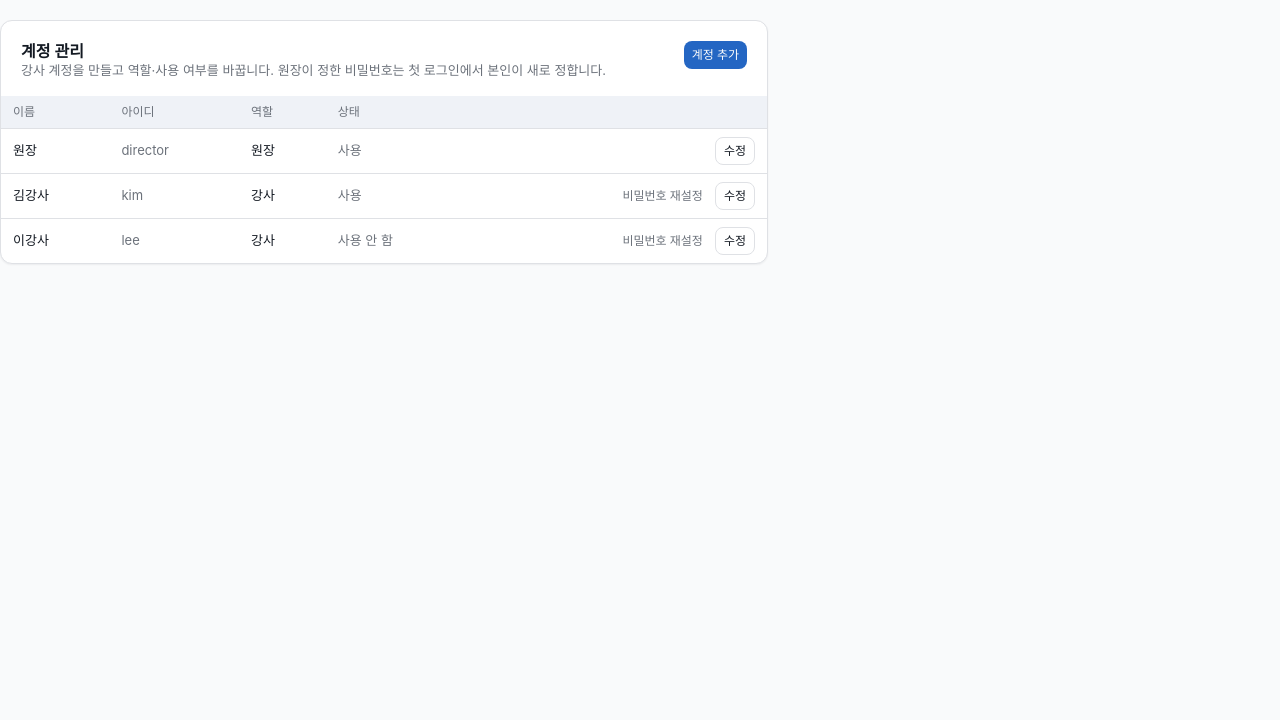
임시 비밀번호로 재설정한다
Expected: the text "김강사" is shown, top-left (1, 173), bottom-right (109, 218)
Step 1. Click the button with aria-label "김강사 비밀번호 재설정" → click(663, 196), box top-left (614, 182), bottom-right (711, 210)
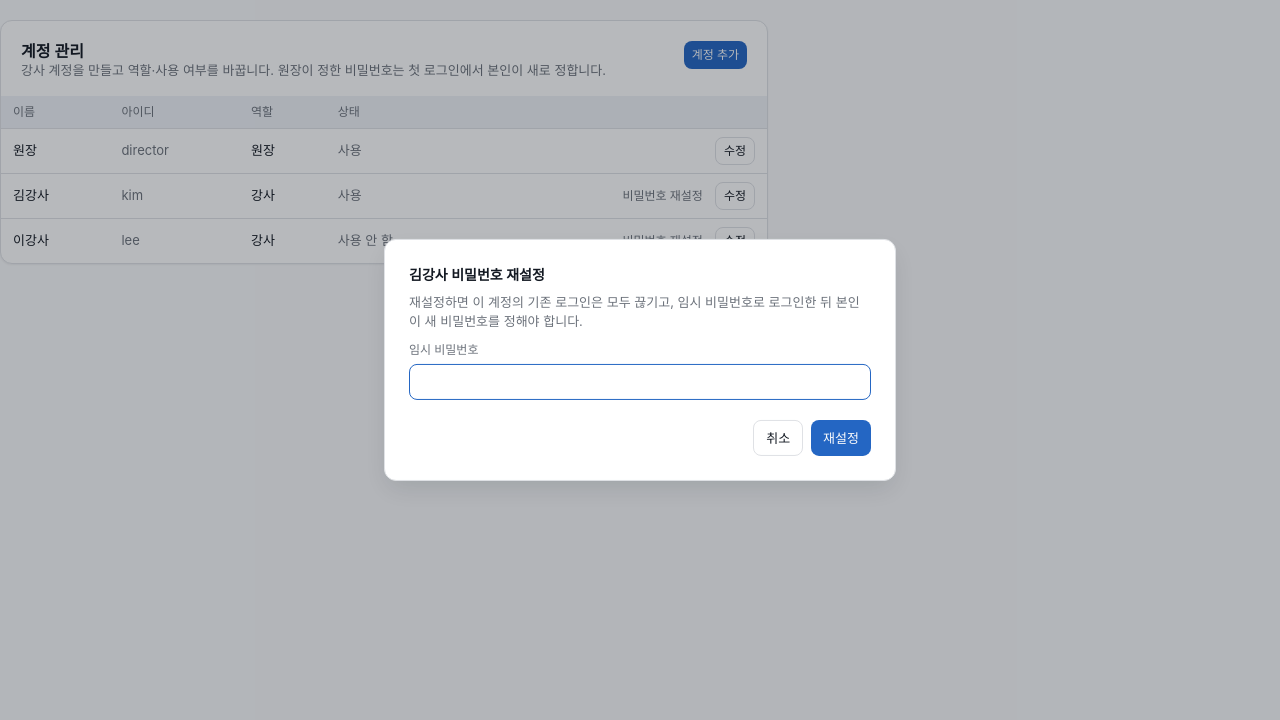
Expected: the dialog shows "기존 로그인은 모두 끊기고", top-left (409, 294), bottom-right (860, 328)
Step 2. Type "temporary-pw" into the password field labelled "임시 비밀번호" → (640, 382), box top-left (409, 364), bottom-right (871, 400)
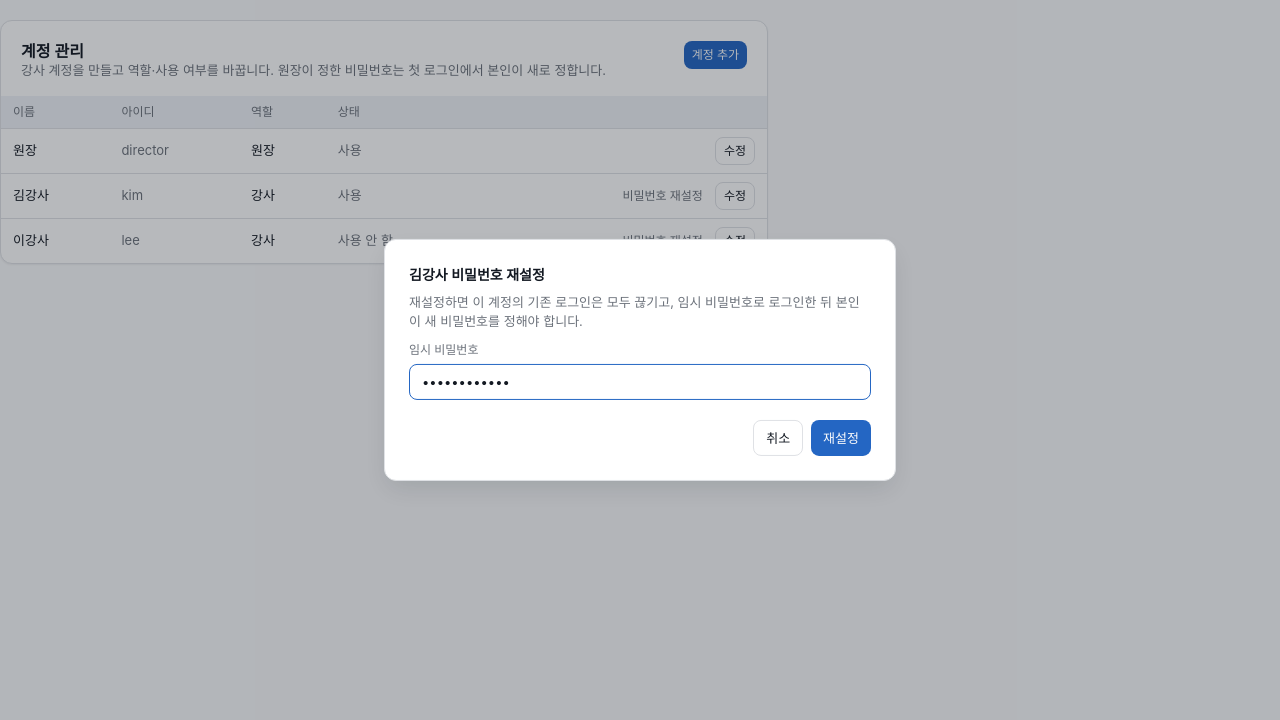
Step 3. Click the button "재설정" → click(841, 438), box top-left (811, 420), bottom-right (871, 456)
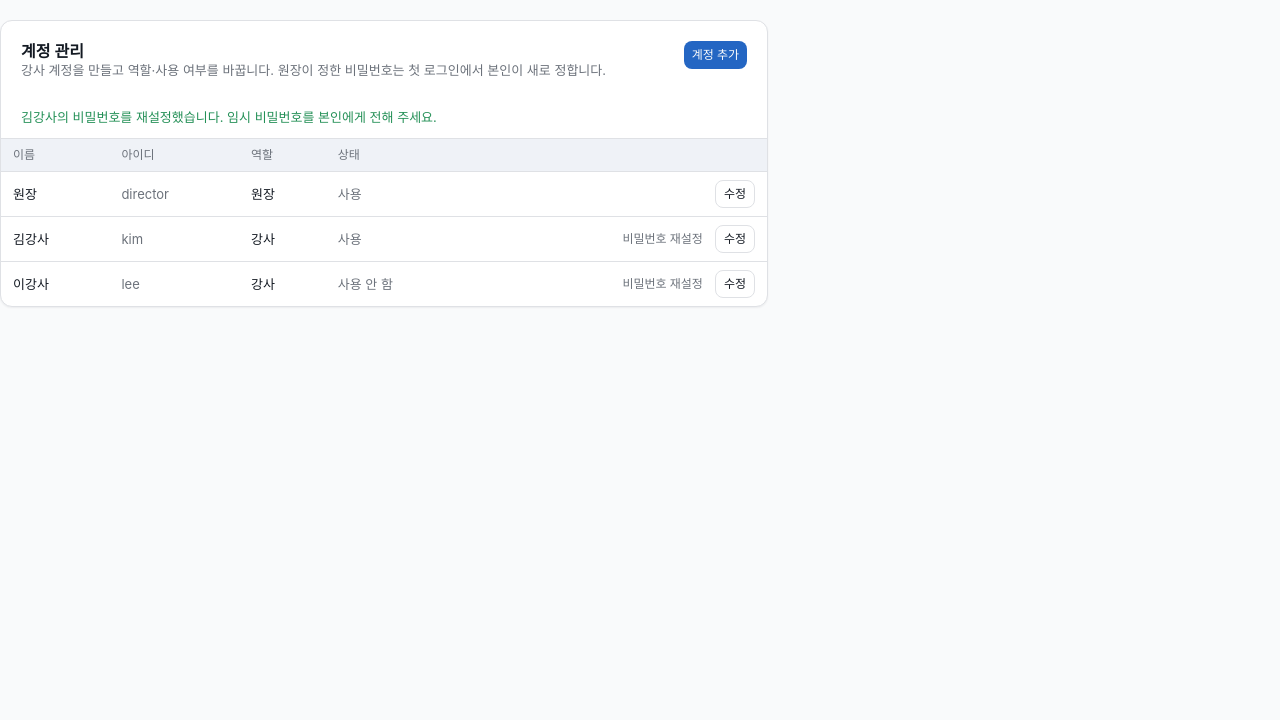
Expected: the message shows "김강사", top-left (1, 96), bottom-right (767, 139)
